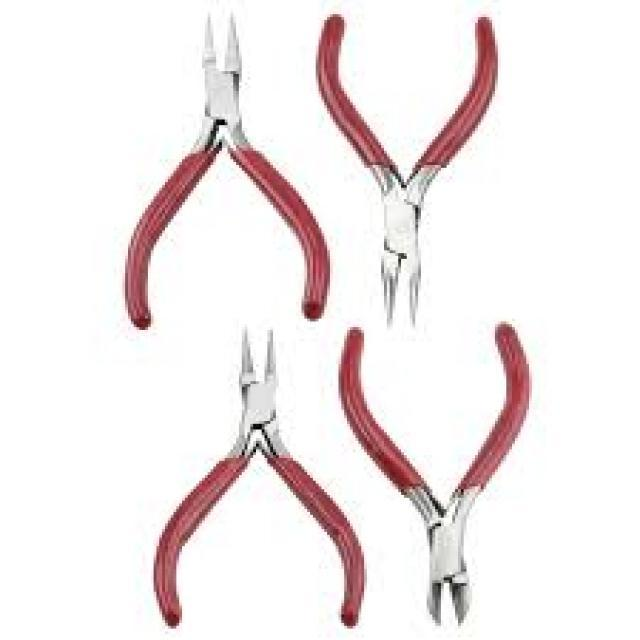pliers: (116, 5, 342, 338), (147, 326, 370, 634), (306, 6, 512, 336), (326, 325, 550, 628)
